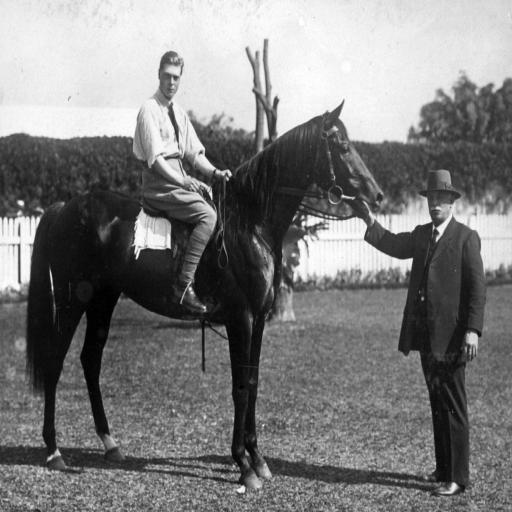horse: (26, 101, 384, 493)
